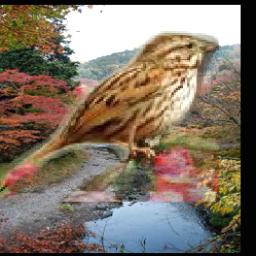Sparrow: (0, 27, 219, 202)
